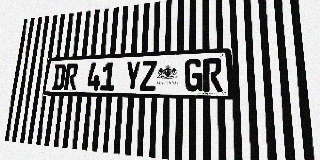1: (100, 62, 116, 91)
4: (86, 62, 102, 91)
D: (52, 64, 66, 90)
G: (184, 58, 203, 91)
R: (203, 58, 223, 92), (64, 63, 79, 90)
Y: (124, 61, 141, 91)
Z: (140, 60, 157, 91)
